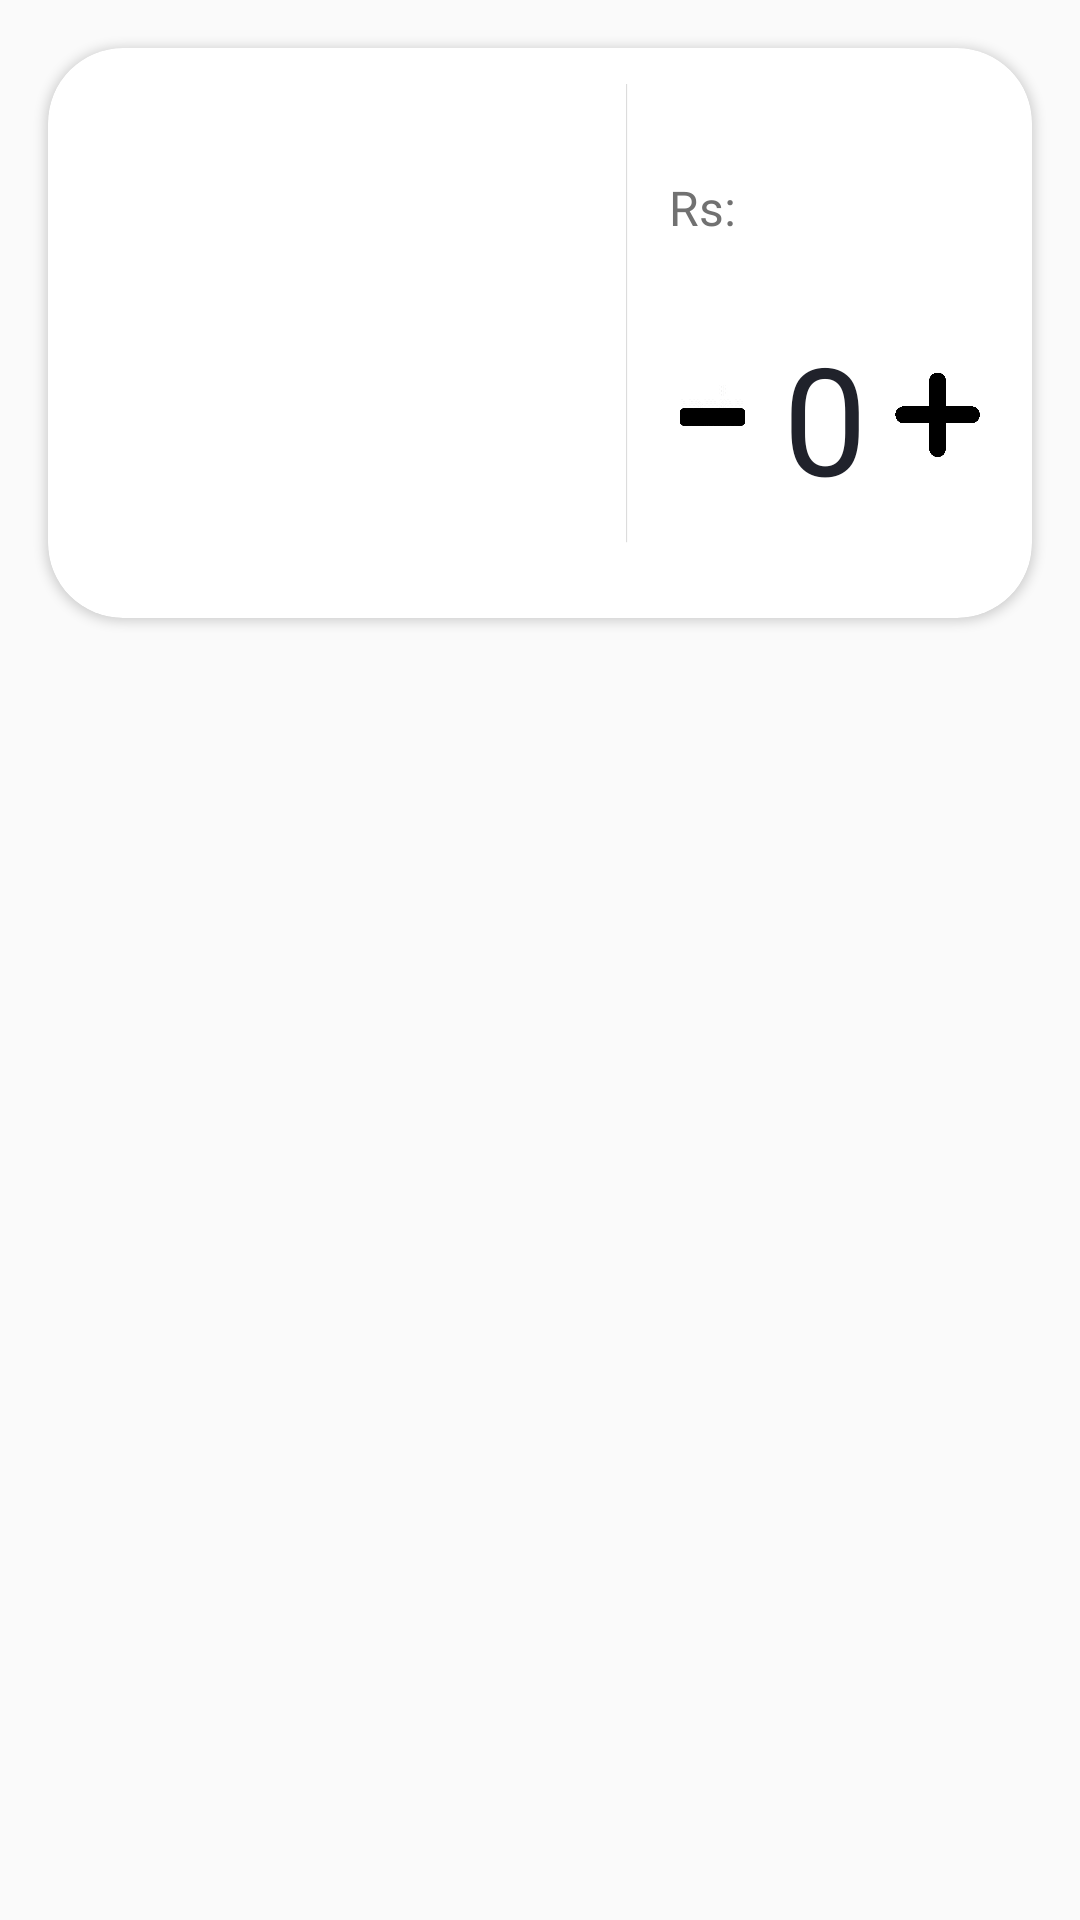

Screen size 1080 x 1920. Icon name, then its box in pixels as (x1, y1, x2, y2):
plus: (895, 373, 980, 457)
